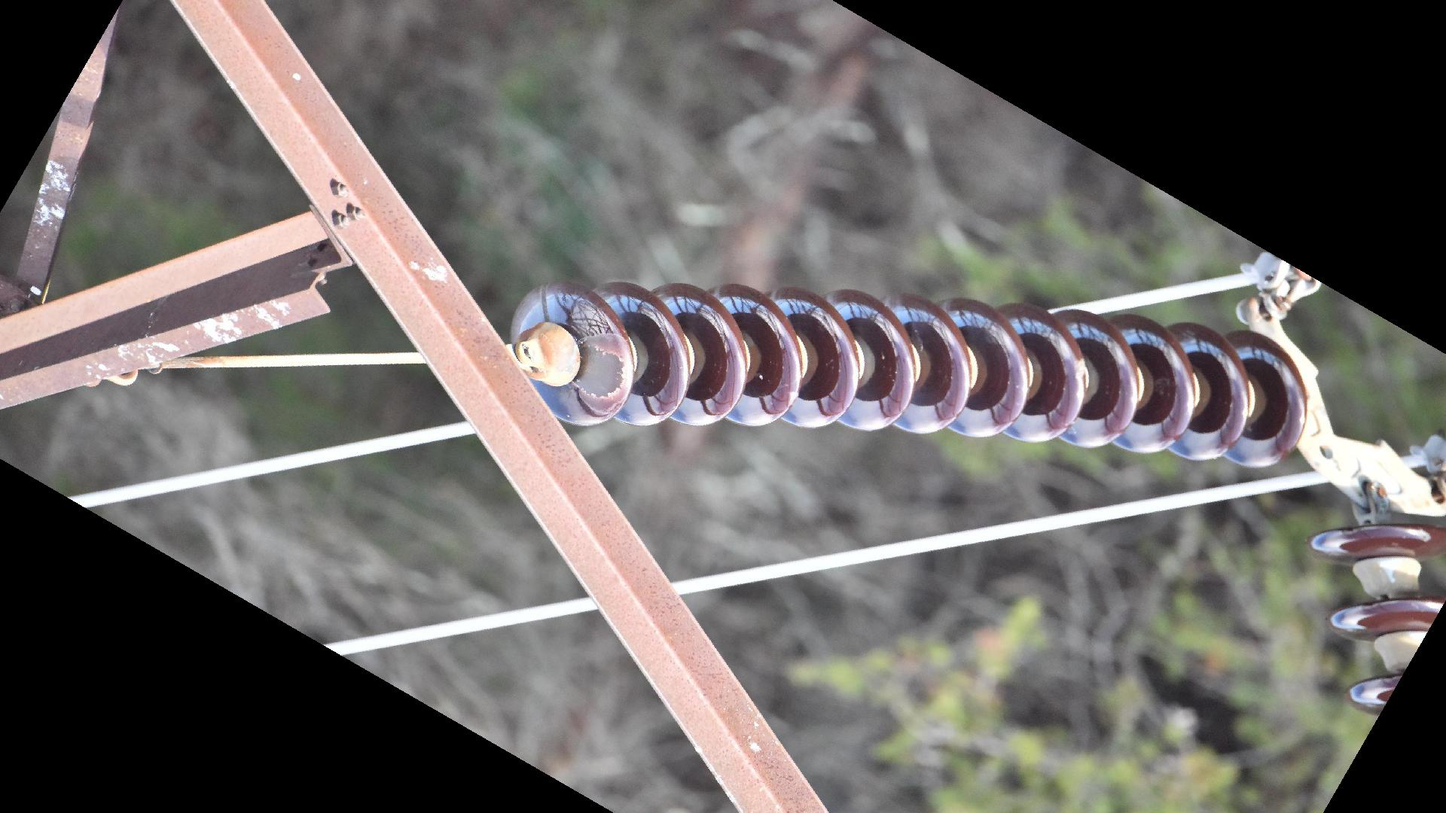insulator: (508, 271, 1312, 477), (1299, 522, 1446, 722)
insulator_flashover: (573, 339, 629, 400)
